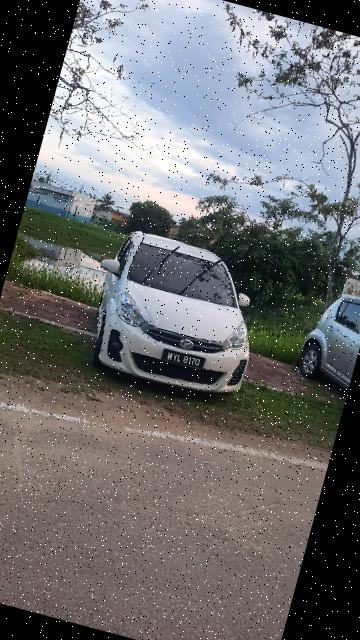License_Plate: (158, 348, 210, 373)
car: (72, 217, 281, 410)
